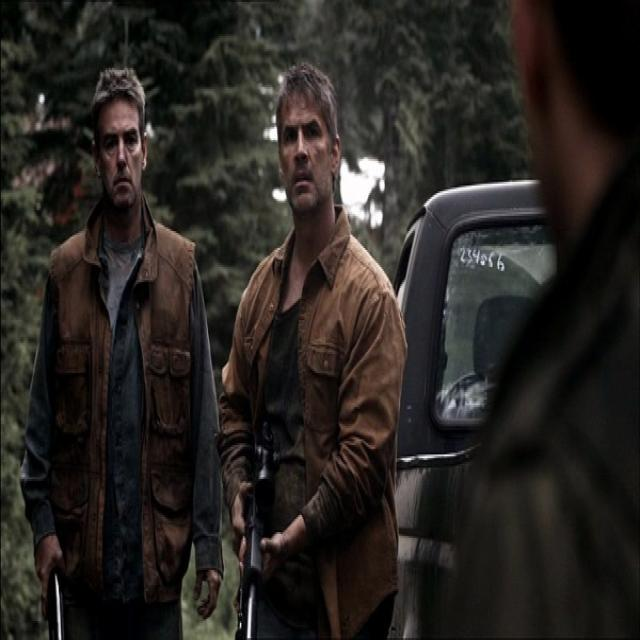rifle: (235, 417, 274, 640)
